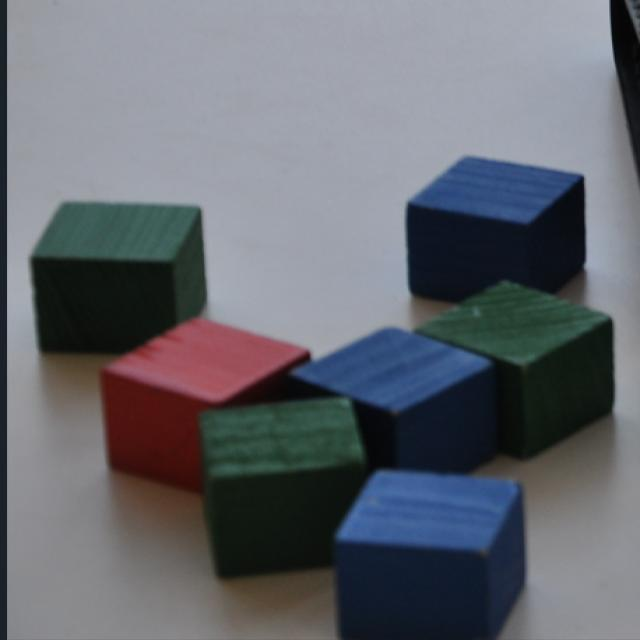bluecube: (337, 470, 540, 640), (288, 325, 498, 482), (407, 155, 588, 302)
green cube: (410, 279, 616, 461), (202, 396, 366, 579), (30, 201, 209, 362)
red cube: (103, 315, 315, 496)
